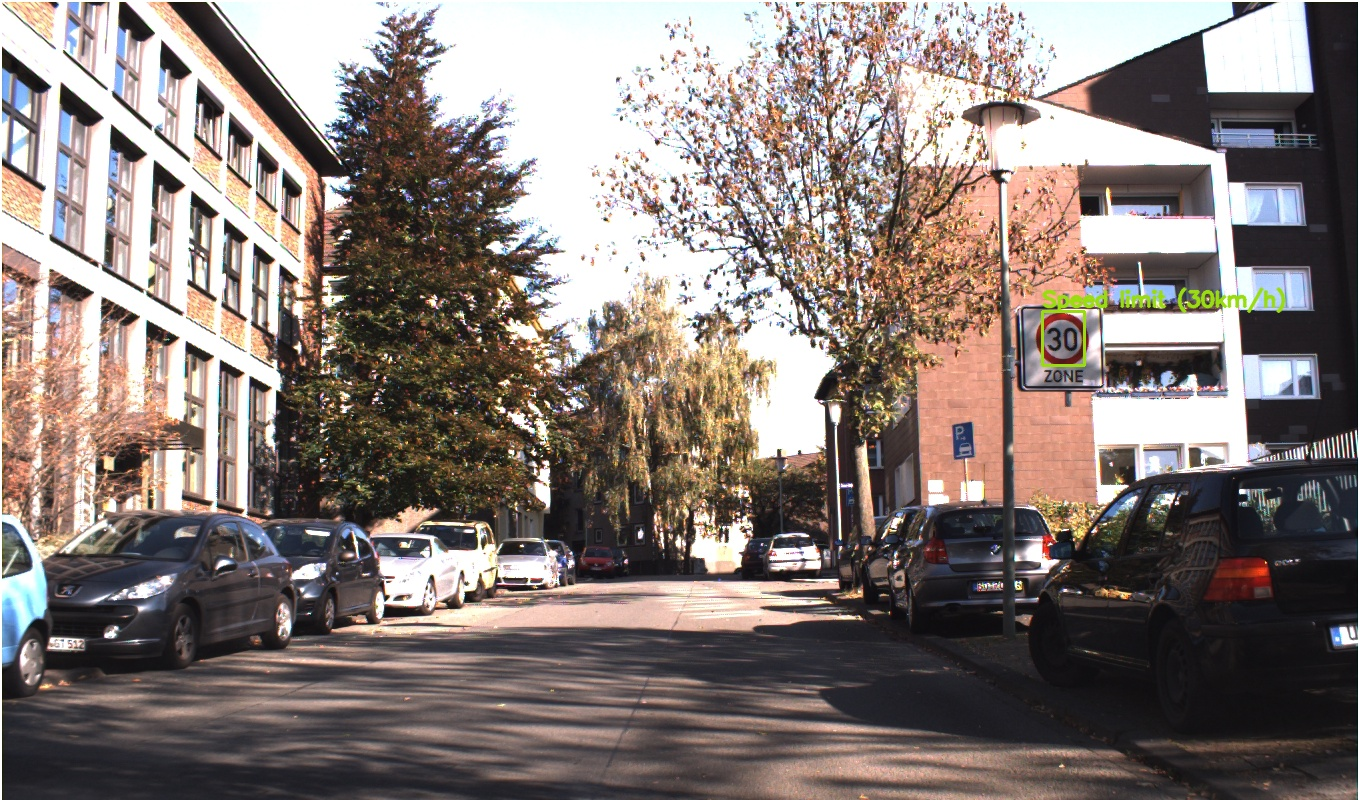Keep right: (178, 504, 240, 597)
